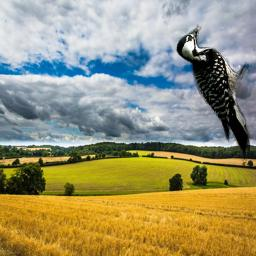Woodpecker: (175, 24, 250, 162)
